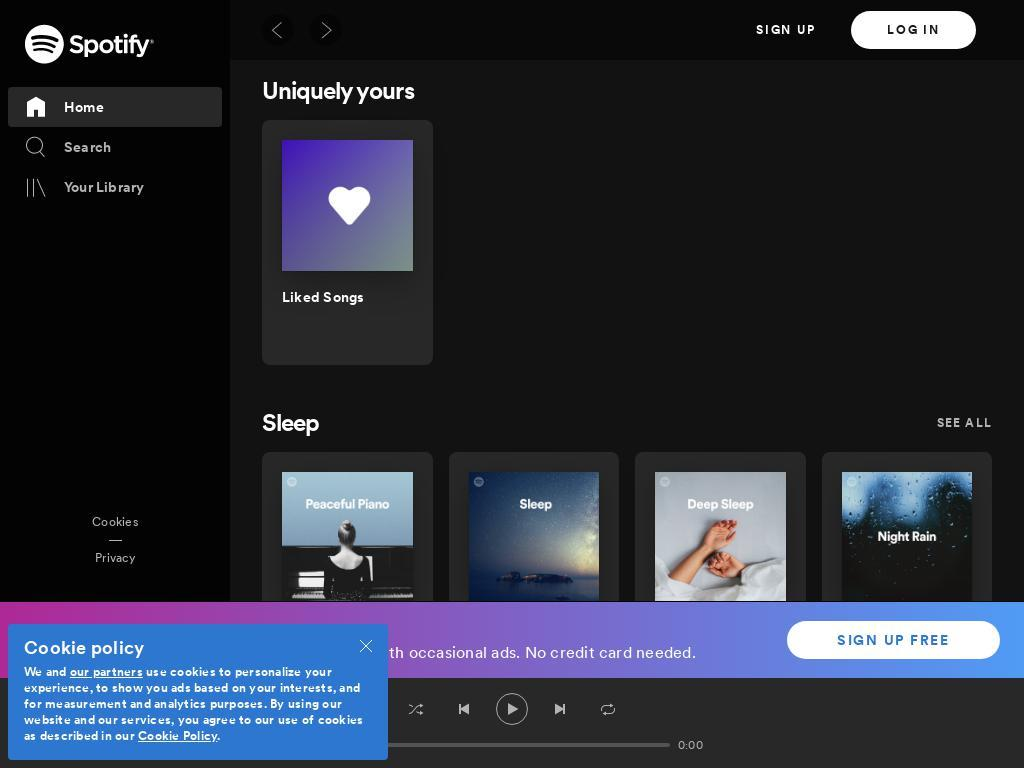button: (0, 24, 230, 87), (8, 87, 222, 127), (8, 127, 222, 167), (8, 167, 222, 207), (786, 621, 1000, 659), (720, 11, 852, 49), (851, 11, 976, 49), (282, 286, 413, 307), (282, 618, 413, 639), (468, 618, 599, 639), (655, 618, 786, 639), (841, 618, 972, 639), (344, 624, 388, 678), (936, 411, 992, 433), (936, 743, 992, 765), (262, 749, 322, 768), (262, 417, 319, 436), (262, 14, 294, 46), (310, 14, 342, 46), (92, 512, 138, 533), (95, 548, 135, 569)
heading: (262, 76, 414, 376), (262, 408, 319, 708), (262, 740, 322, 768)
image: (0, 0, 1024, 768), (282, 140, 413, 271), (282, 472, 413, 603), (468, 472, 599, 603), (655, 472, 786, 603), (841, 472, 972, 603), (24, 24, 155, 64), (36, 743, 354, 747), (24, 95, 48, 119), (24, 135, 48, 159), (24, 175, 48, 199), (267, 19, 289, 41), (315, 19, 337, 41), (360, 640, 372, 652)
link: (138, 728, 217, 743), (69, 664, 143, 679)
text: (24, 664, 363, 743), (39, 641, 696, 663), (39, 621, 696, 637), (655, 643, 768, 695), (24, 640, 372, 656), (841, 643, 939, 695), (282, 643, 411, 677), (468, 643, 595, 677), (64, 97, 222, 117), (64, 137, 222, 157), (64, 177, 222, 197), (282, 286, 413, 307), (282, 618, 413, 639), (468, 618, 599, 639), (655, 618, 786, 639), (841, 618, 972, 639), (936, 414, 992, 430), (936, 746, 992, 762), (24, 664, 70, 679), (313, 737, 354, 753), (670, 737, 711, 753), (217, 728, 222, 743)
